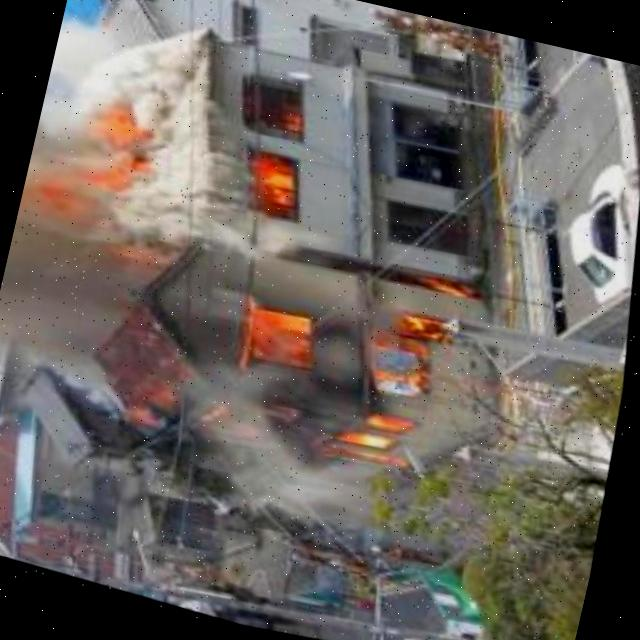fire: (69, 228, 477, 507), (236, 93, 332, 230), (96, 98, 156, 158), (86, 145, 149, 200), (26, 168, 79, 213)
